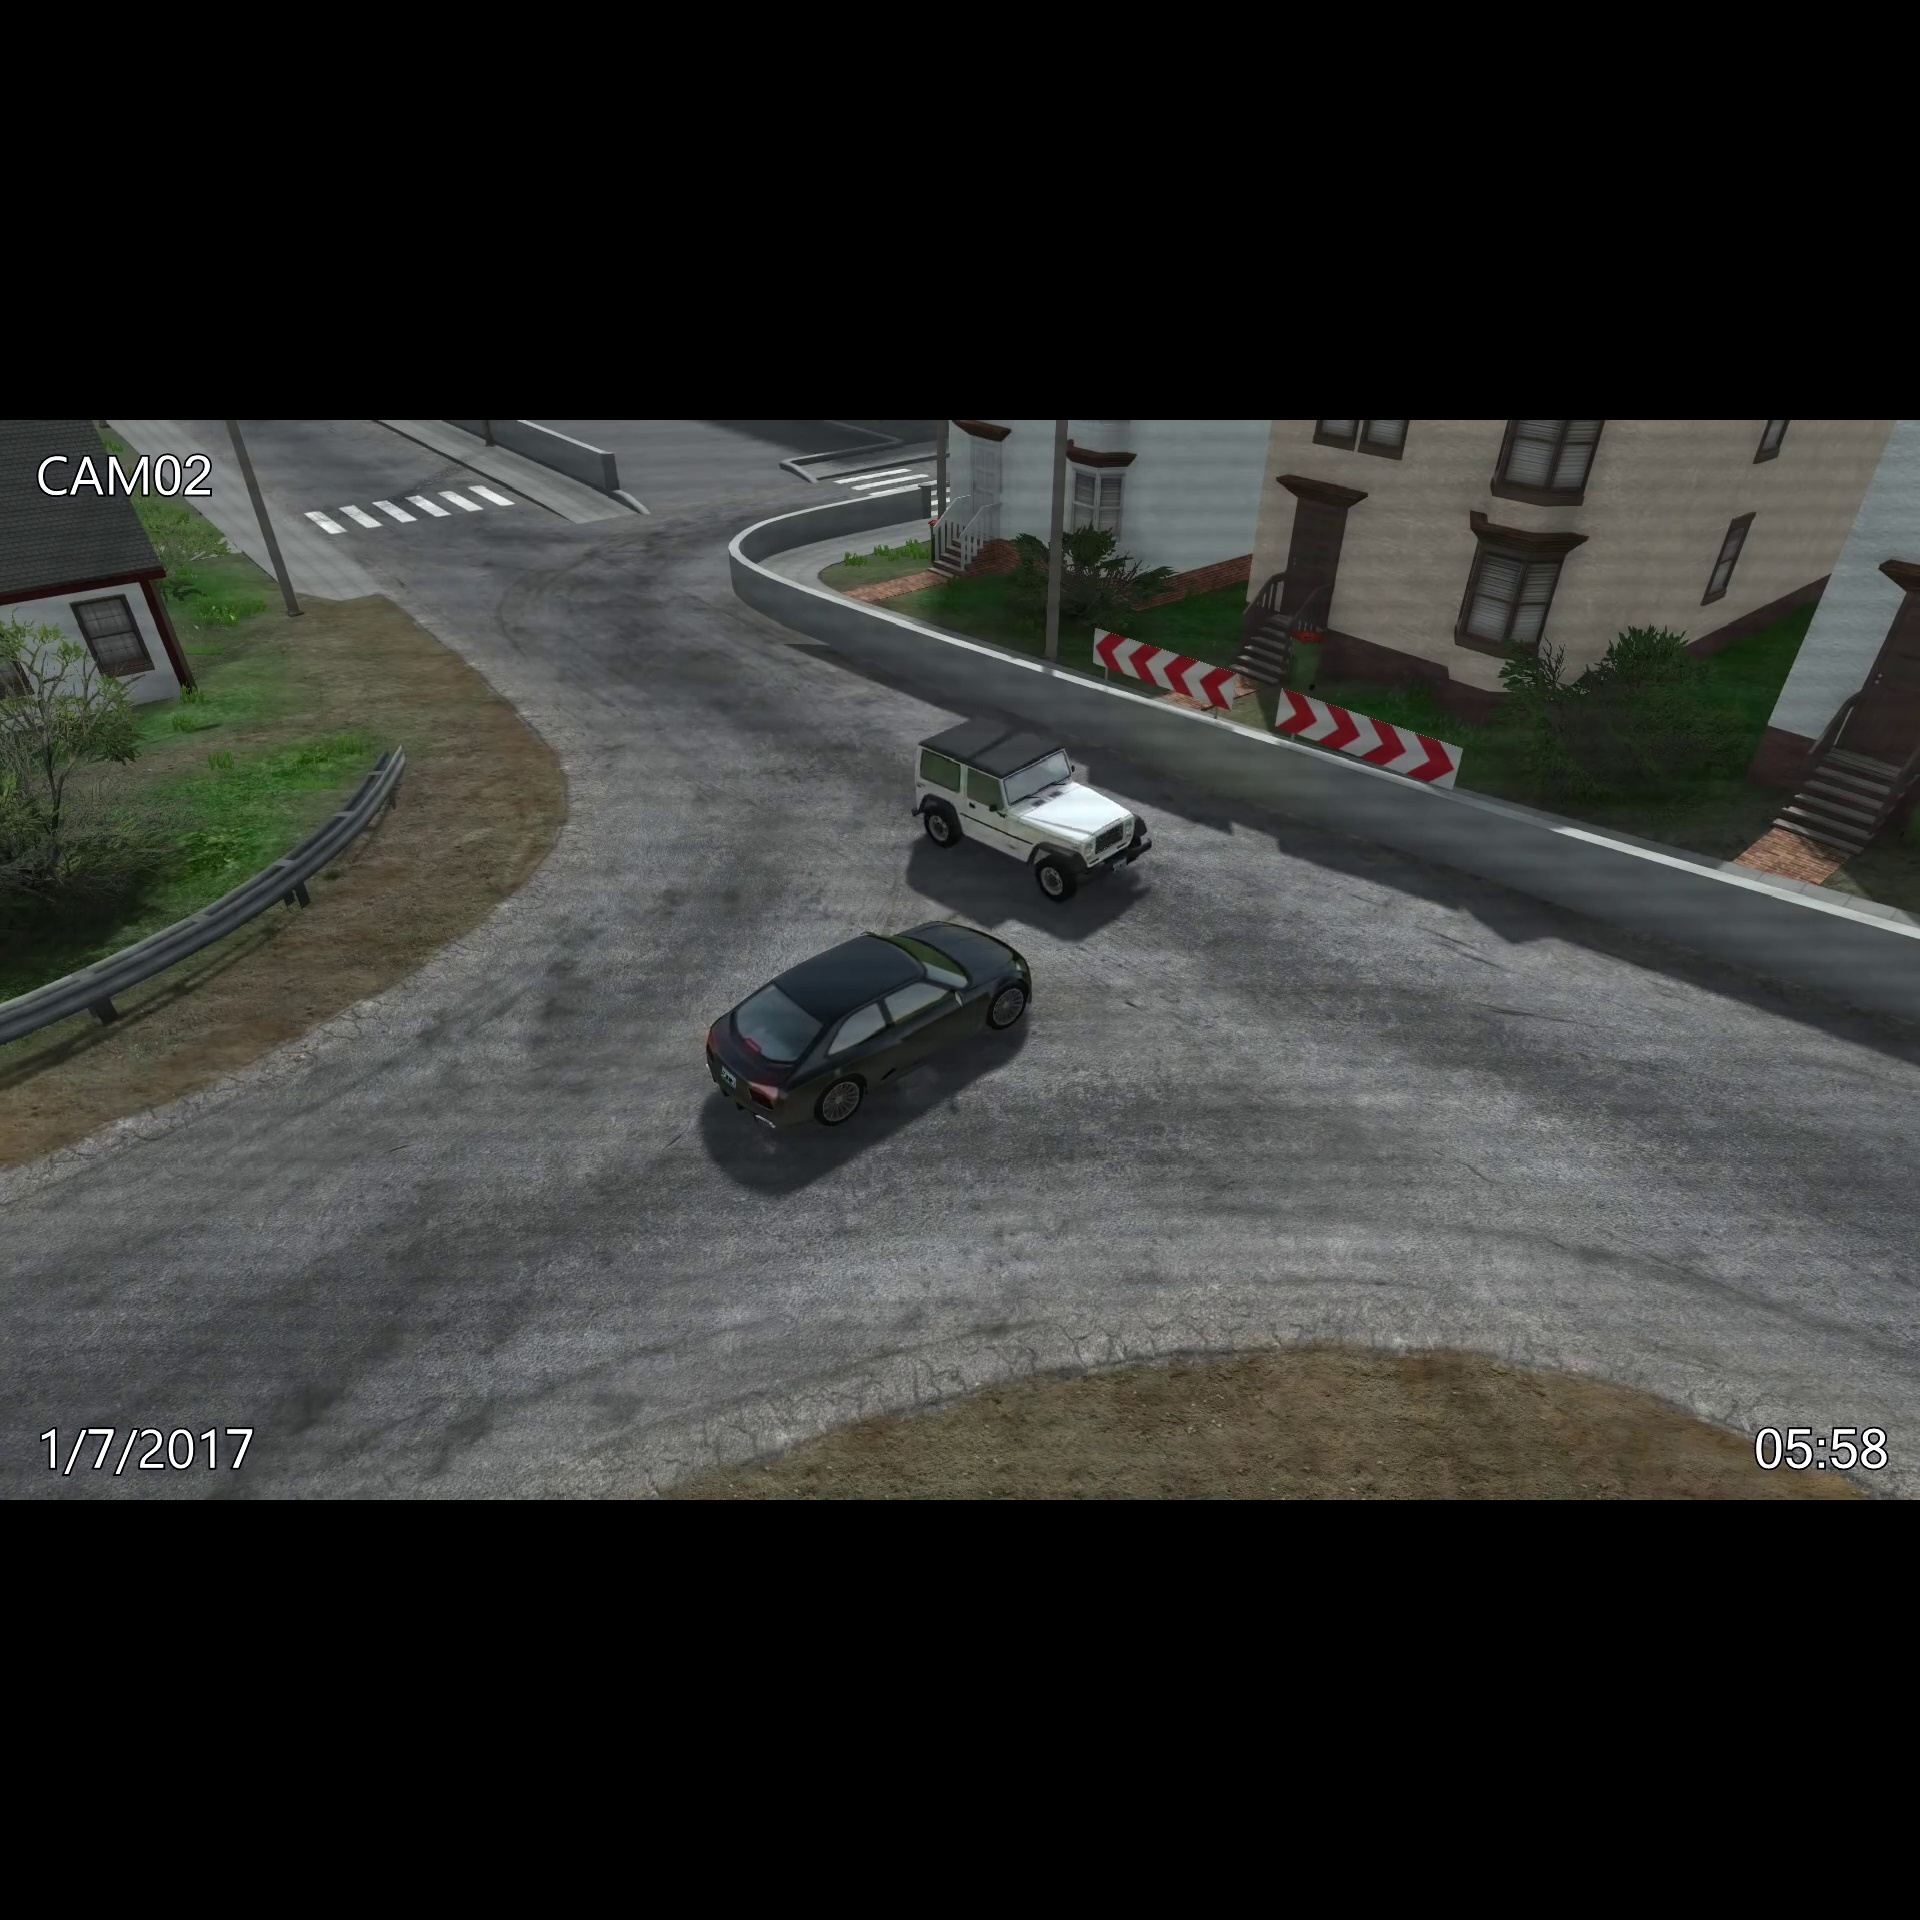vehicle: (698, 913, 1046, 1145), (905, 712, 1162, 905)
